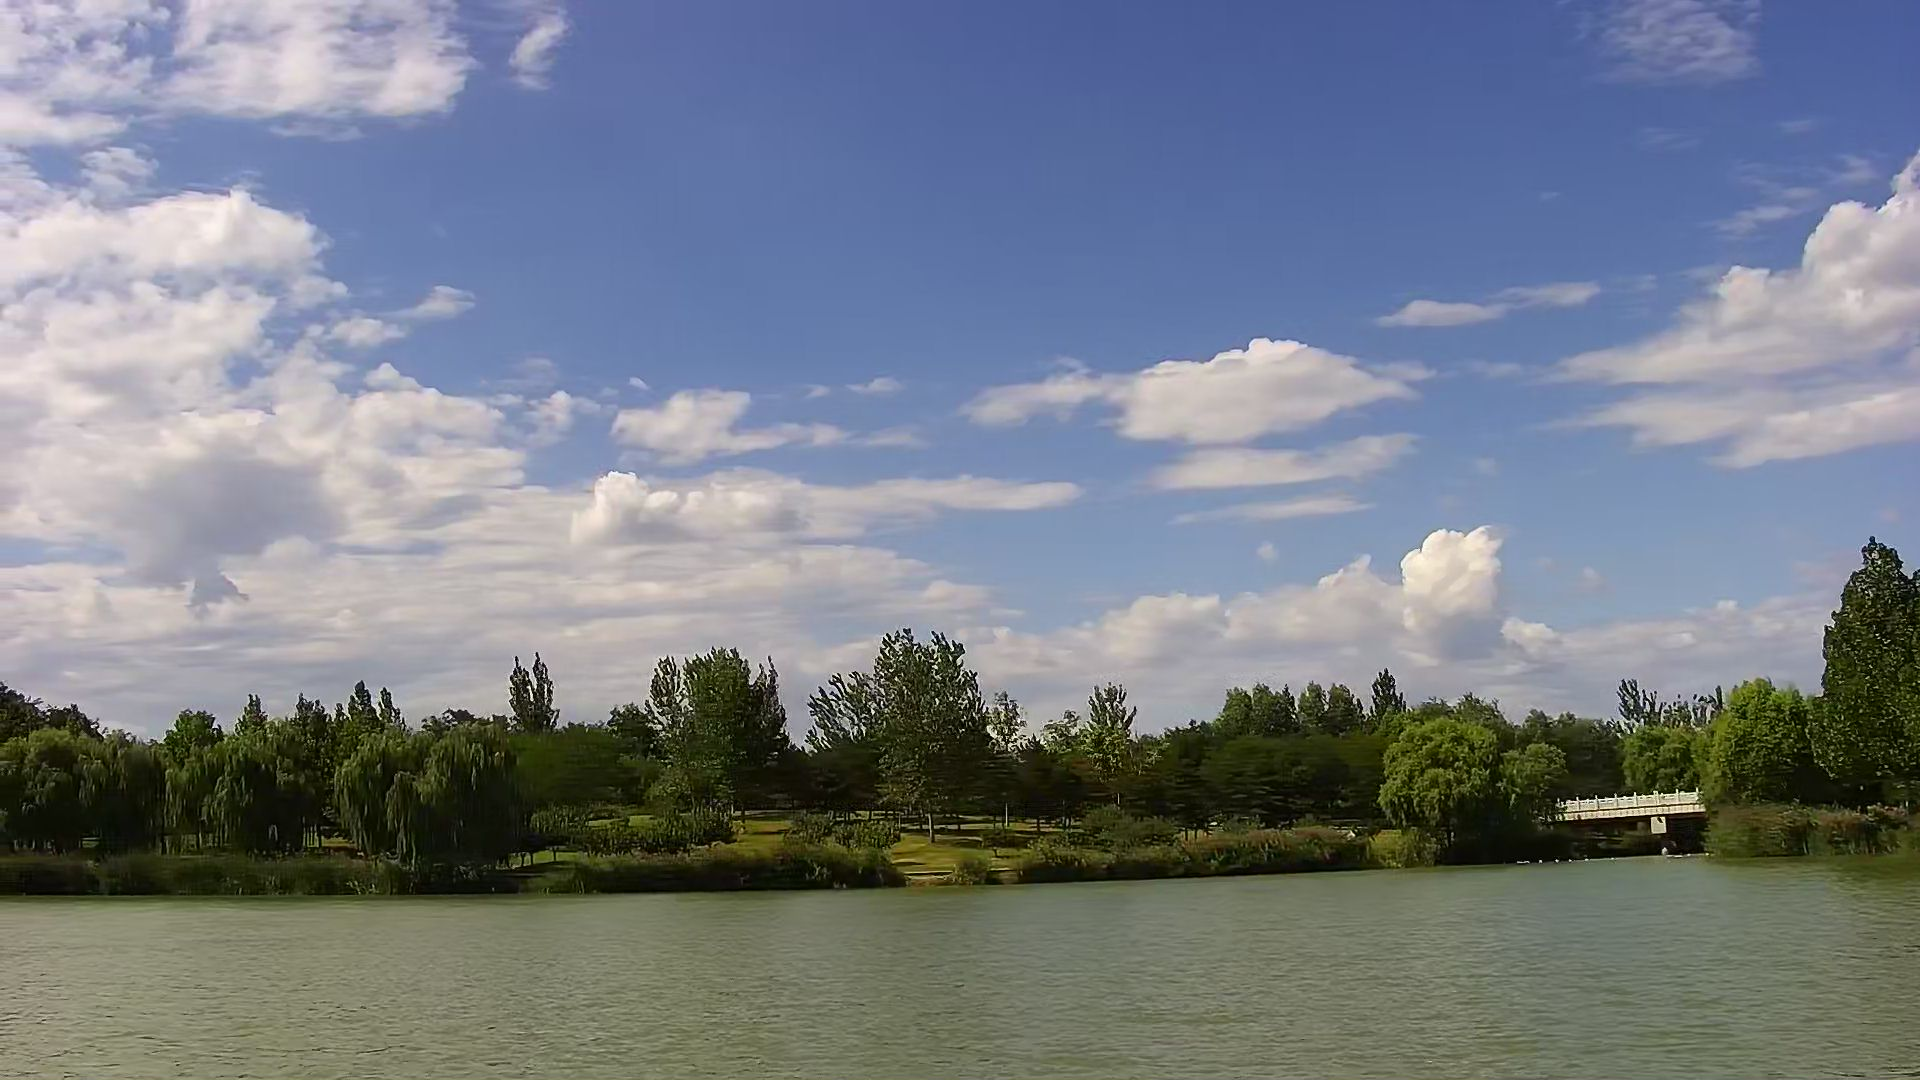bridge: (1569, 791, 1708, 855)
